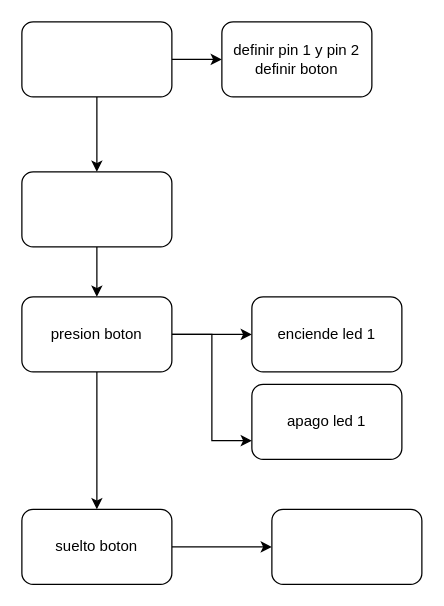
This 444x606 diagram has some shape labels left out. The centre of each missing label's shape, as x and y in pixels:
enciendi led 2: point 346,546
inicio: point 96,59
loop: point 96,209
